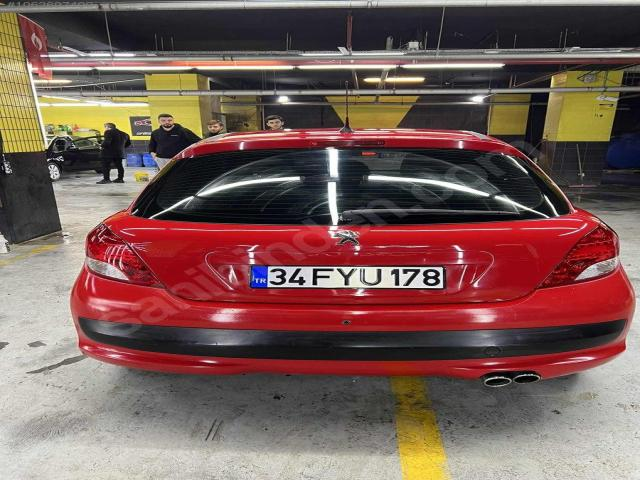plaka: (252, 266, 444, 288)
